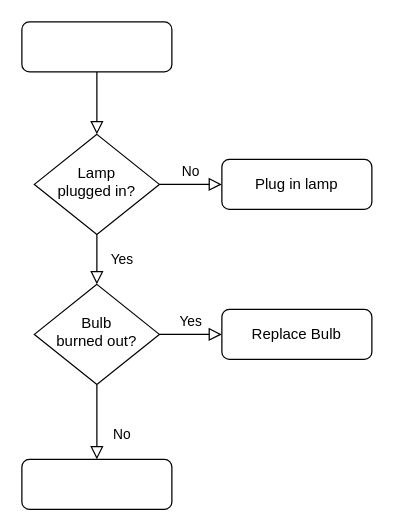
This 394x531 diagram has some shape labels left out. Here are the shapes that lost their labels. From the top down, the centre of each, then its label:
point (96, 46): Начало урока
point (96, 483): Окончание урока
